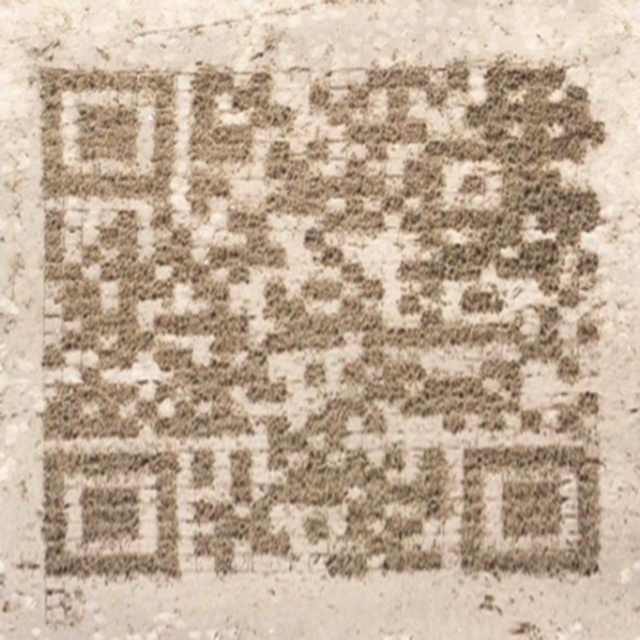qr-code: (40, 69, 600, 577)
